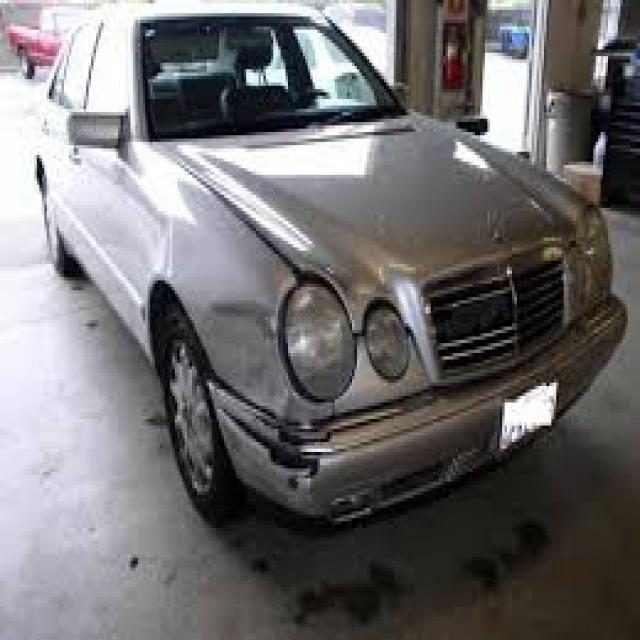minor: (168, 148, 446, 402)
